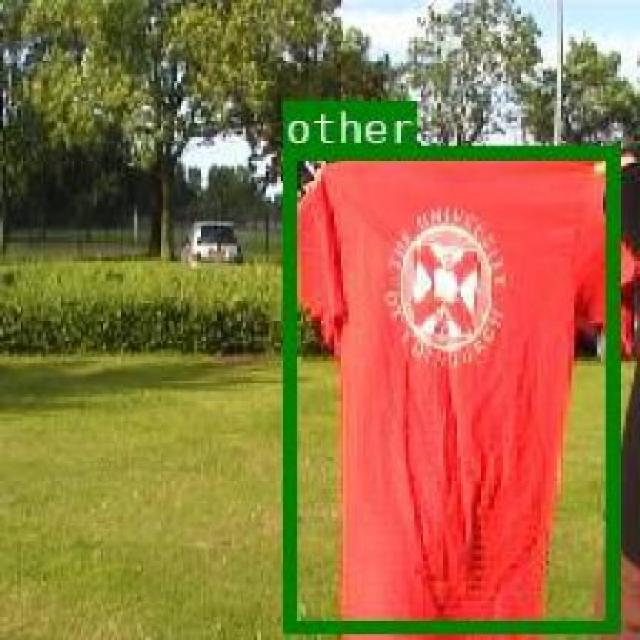other: (280, 144, 617, 628)
